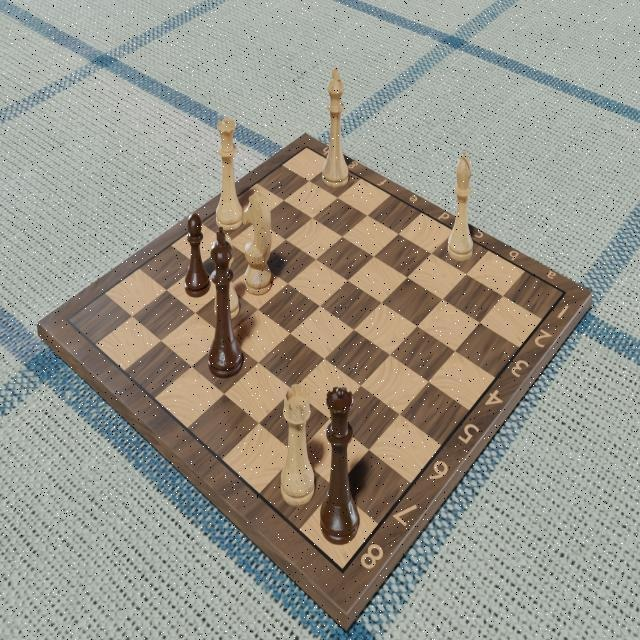black-king: (206, 230, 243, 385)
black-pawn: (182, 206, 212, 297)
black-queen: (318, 379, 362, 551)
white-bishop: (447, 147, 477, 265)
white-king: (321, 62, 351, 192)
white-knight: (242, 187, 275, 297)
white-pawn: (210, 228, 242, 323)
white-queen: (214, 112, 246, 231)
white-rook: (276, 384, 315, 507)
